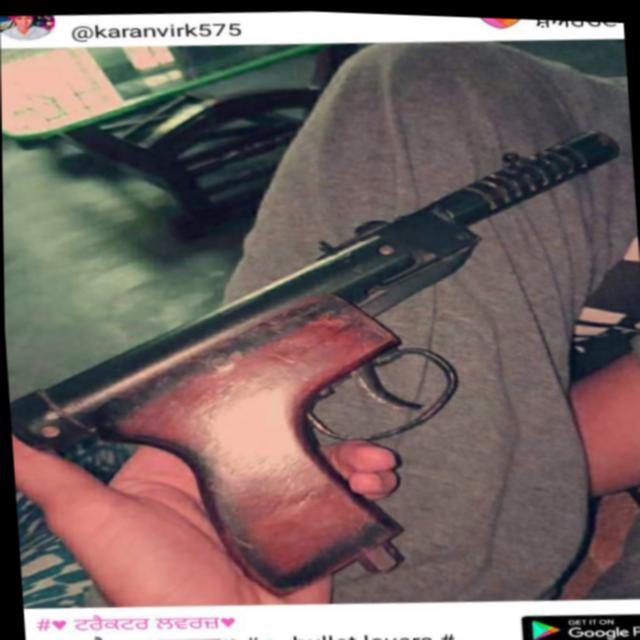weapon: (1, 97, 640, 625)
